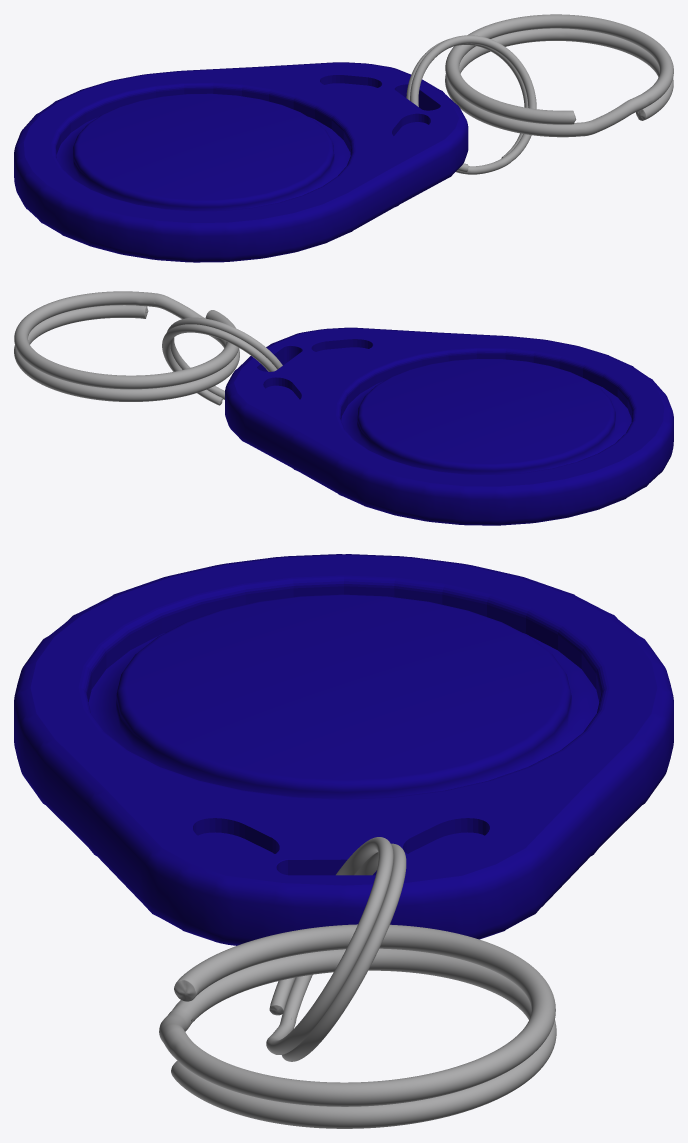
Rendered from 6. KEYCHAIN.gltf.
The picture shows the model from 3 angles, top to bottom: view 1: azimuth 30°, elevation 25°; view 2: azimuth 150°, elevation 25°; view 3: azimuth 270°, elevation 25°; orthographic projection. The views are drawn at different scales.
Visible parts, largest first — view 1: Circle.012, KEYRING.003, KEYRING.002; view 2: Circle.012, KEYRING.003, KEYRING.002; view 3: Circle.012, KEYRING.003, KEYRING.002.
Boxes of the visible parts, left/top/right/bottom form: Circle.012: left=14, top=62, right=468, bottom=262; KEYRING.003: left=445, top=14, right=673, bottom=137; KEYRING.002: left=406, top=35, right=536, bottom=174; Circle.012: left=225, top=327, right=673, bottom=525; KEYRING.003: left=14, top=291, right=239, bottom=401; KEYRING.002: left=162, top=317, right=282, bottom=405; Circle.012: left=14, top=554, right=673, bottom=945; KEYRING.003: left=159, top=924, right=556, bottom=1128; KEYRING.002: left=266, top=837, right=406, bottom=1061.
Size of the model in its own units: 0.1466 by 0.0254 by 0.0773.
